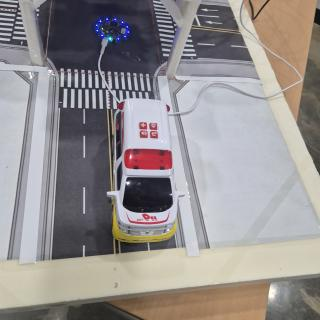Ambulance: (107, 99, 185, 242)
